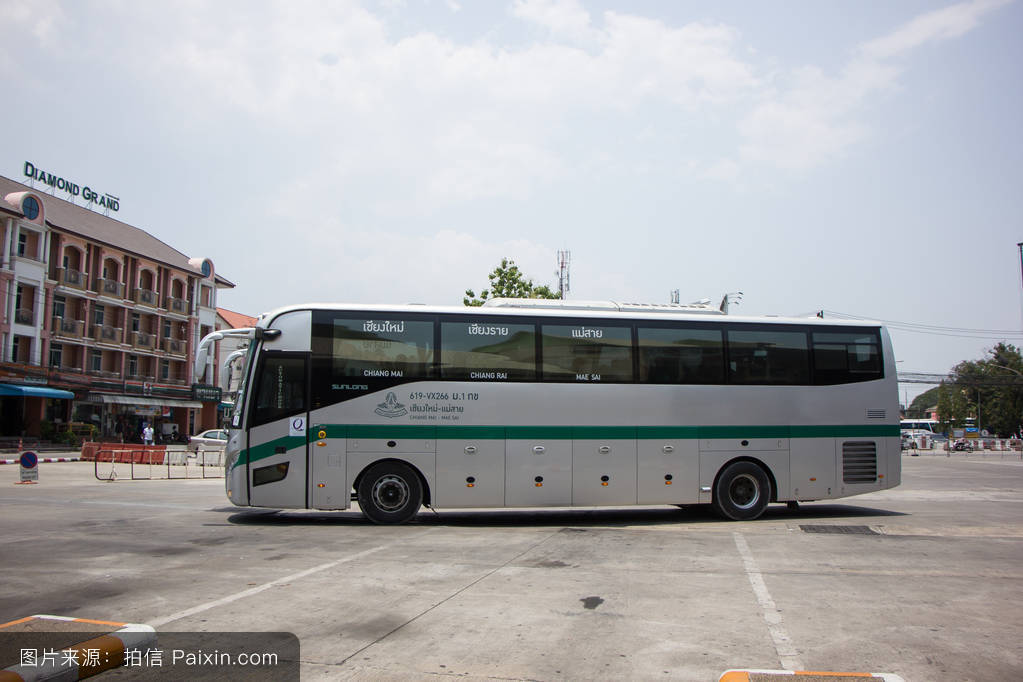bus: (191, 295, 931, 515)
